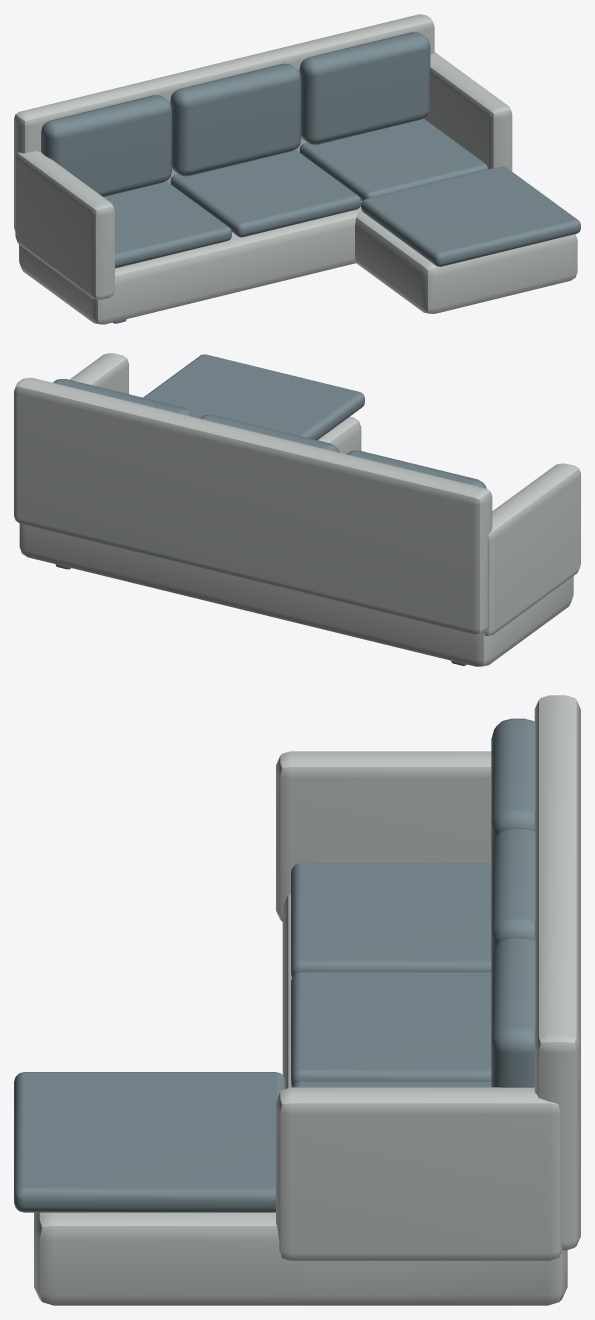
File: sectional-sofa.glb
3 views of the same model, one above another, from view 1: azimuth 30°, elevation 25°; view 2: azimuth 150°, elevation 25°; view 3: azimuth 270°, elevation 25° (orthographic). The views are drawn at different scales.
Parts seen in each view (by area): view 1: main_sofa_base, chaise_cushion, back_cushion.001, back_cushion.002, chaise_base, armrest, back_cushion, seat_cushion.001, seat_cushion.002, rear_shell, seat_cushion, armrest.001; view 2: rear_shell, main_sofa_base, armrest, chaise_cushion, armrest.001, back_cushion, back_cushion.001, back_cushion.002, chaise_base; view 3: armrest.001, chaise_cushion, chaise_base, armrest, seat_cushion.001, seat_cushion, rear_shell, main_sofa_base, back_cushion.002, back_cushion, back_cushion.001, seat_cushion.002.
Part boxes in pixels (box(x1,y1,x2,y2)): main_sofa_base: box(19, 201, 361, 324); chaise_cushion: box(361, 166, 580, 266); back_cushion.001: box(170, 63, 301, 176); back_cushion.002: box(299, 32, 430, 144); chaise_base: box(355, 201, 577, 313); armrest: box(15, 151, 114, 299); back_cushion: box(41, 95, 171, 196); seat_cushion.001: box(170, 149, 361, 237); seat_cushion.002: box(299, 118, 487, 201); rear_shell: box(14, 14, 434, 231); seat_cushion: box(103, 181, 231, 268); armrest.001: box(424, 52, 512, 171); rear_shell: box(14, 377, 492, 634); main_sofa_base: box(19, 523, 573, 666); armrest: box(484, 463, 580, 635); chaise_cushion: box(143, 354, 364, 440); armrest.001: box(69, 353, 128, 394); back_cushion: box(346, 450, 486, 488); back_cushion.001: box(200, 414, 339, 452); back_cushion.002: box(53, 379, 192, 416); chaise_base: box(318, 416, 361, 454); armrest.001: box(276, 1087, 562, 1260); chaise_cushion: box(14, 1072, 285, 1212); chaise_base: box(34, 1212, 411, 1305); armrest: box(276, 751, 491, 921); seat_cushion.001: box(291, 971, 491, 1086); seat_cushion: box(291, 863, 491, 977); rear_shell: box(534, 695, 580, 1250); main_sofa_base: box(282, 894, 567, 1305); back_cushion.002: box(491, 937, 535, 1087); back_cushion: box(491, 718, 535, 847); back_cushion.001: box(491, 828, 535, 956); seat_cushion.002: box(292, 1081, 491, 1087).
Bounding box in the file's own units: 2.54 × 0.95 × 1.71.
